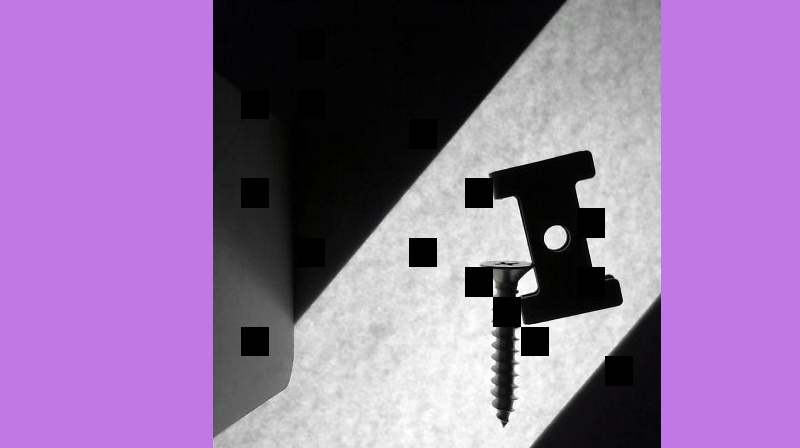O002: (485, 149, 623, 324)
S001: (479, 258, 532, 430)
